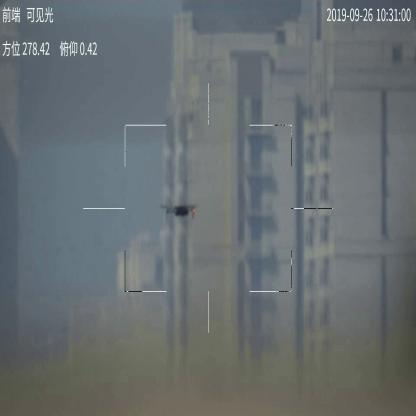uav: (161, 203, 203, 220)
